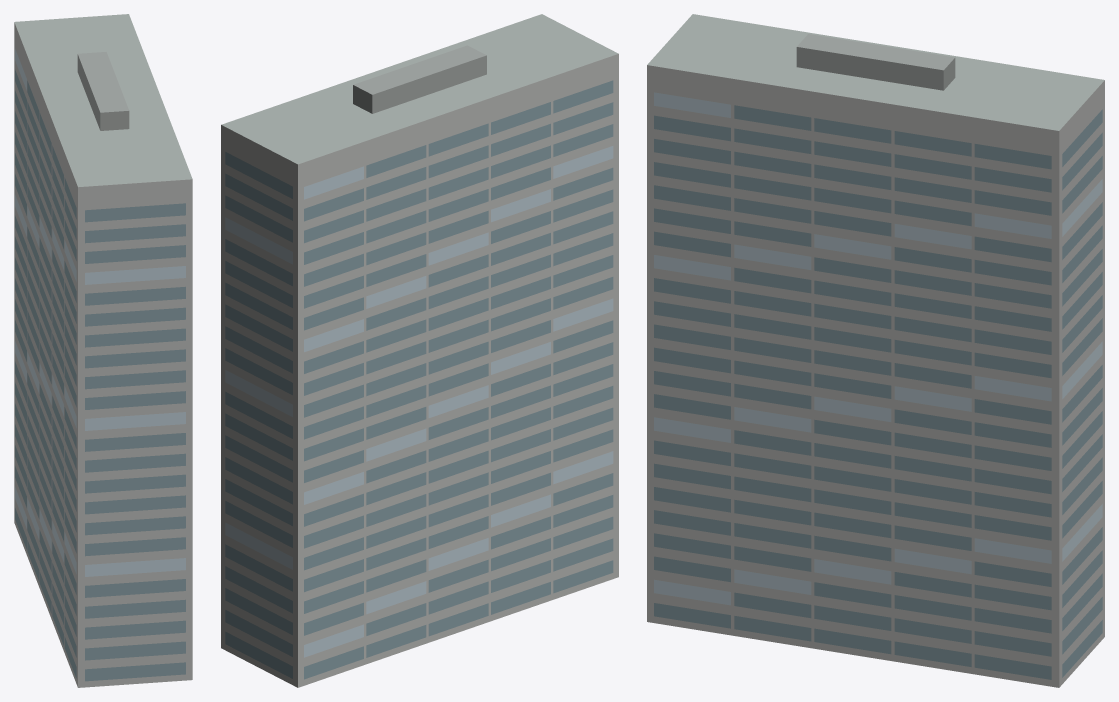
Rendered from fallback-jamsil-els-119.glb.
3 renders of one model, left to right at view 1: azimuth 30°, elevation 25°; view 2: azimuth 150°, elevation 25°; view 3: azimuth 270°, elevation 25°, orthographic. The views are drawn at different scales.
Visible parts, largest first — view 1: fallback-jamsil-els-119; view 2: fallback-jamsil-els-119; view 3: fallback-jamsil-els-119.
Boxes of the visible parts, left/top/right/bottom form: fallback-jamsil-els-119: left=14, top=14, right=192, bottom=687; fallback-jamsil-els-119: left=221, top=14, right=618, bottom=687; fallback-jamsil-els-119: left=647, top=14, right=1104, bottom=687.
Size of the model in its own units: 29.57 by 68 by 48.89.
